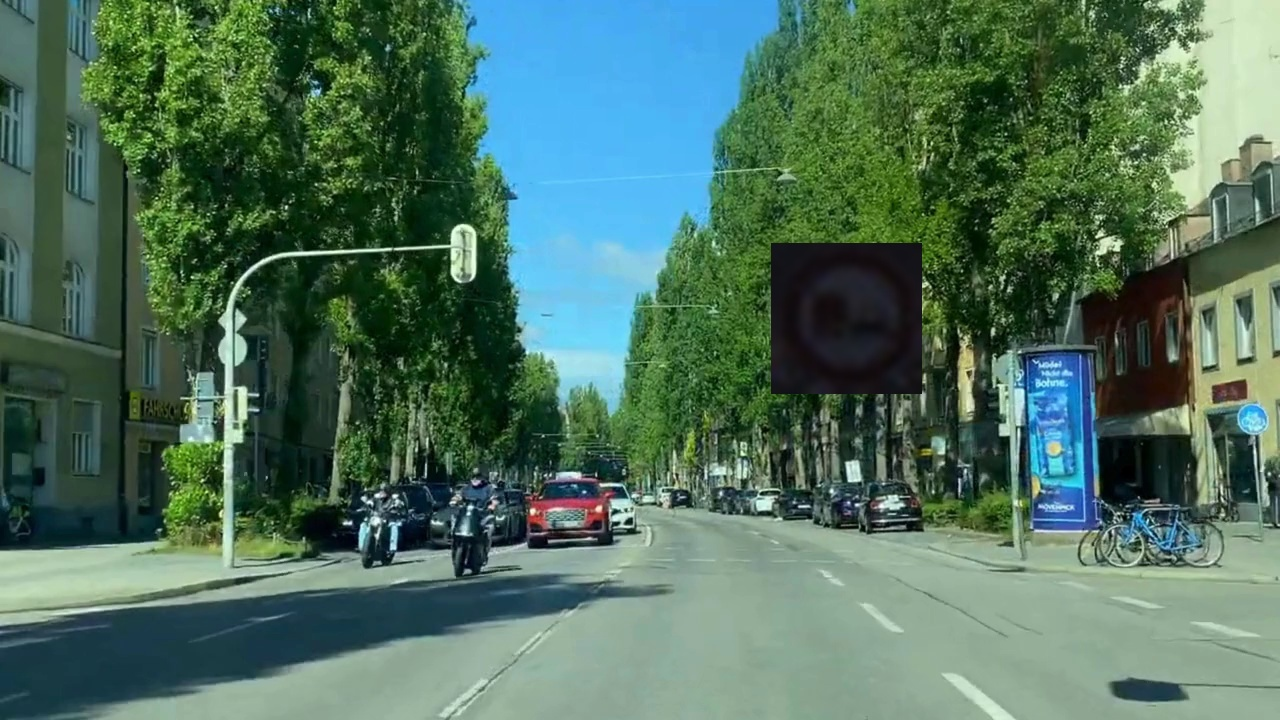No pass >3.5t: (771, 243, 922, 394)
